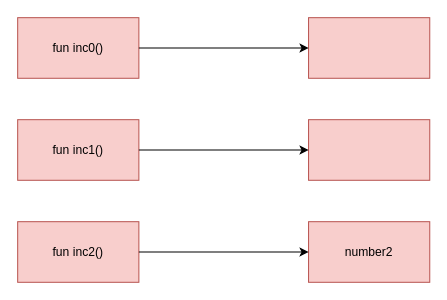
Some shapes in this 447 by 300 pixel diagram are drawn without their labels. The shapes that lost their labels are listed below. From the top down, each one's centre as x and y in pixels, then its label:
At point (369, 47): "number0".
At point (369, 149): "number1".
